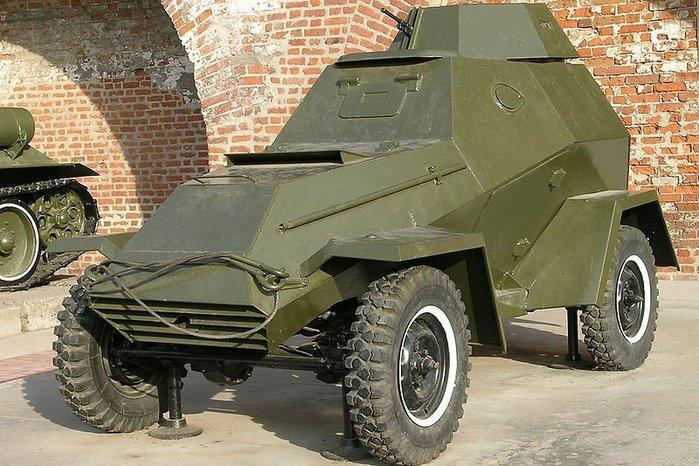MIL_IFV: (52, 0, 681, 466)
